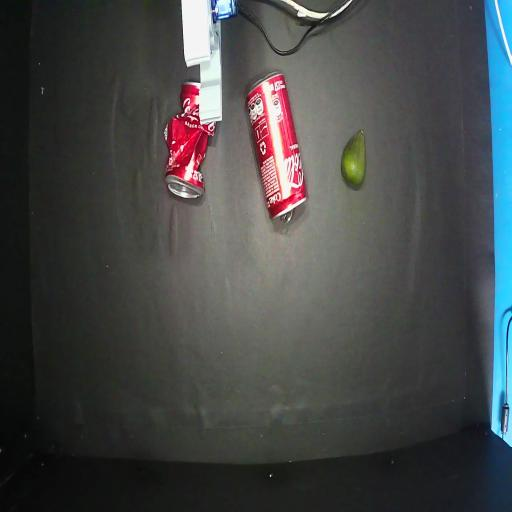higo: (341, 130, 366, 187)
lata: (246, 72, 306, 222)
lata_defectuoso: (164, 82, 216, 198)
